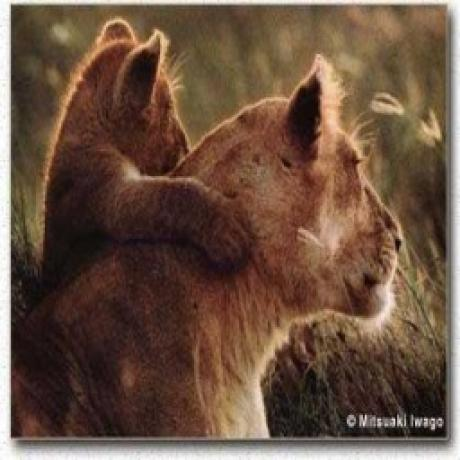Lion: (14, 48, 405, 441), (38, 19, 253, 276)
